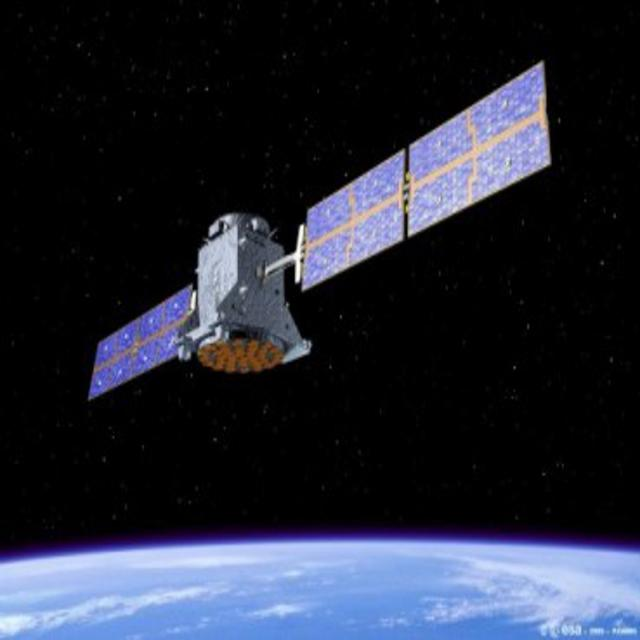satellite: (90, 49, 559, 448)
